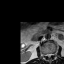CCS_normal: (48, 51, 50, 59)
LFS_normal: (52, 51, 54, 57)
LLS_normal: (50, 51, 52, 58)
RFS_normal: (44, 52, 46, 58)
RLS_normal: (46, 51, 48, 57)
